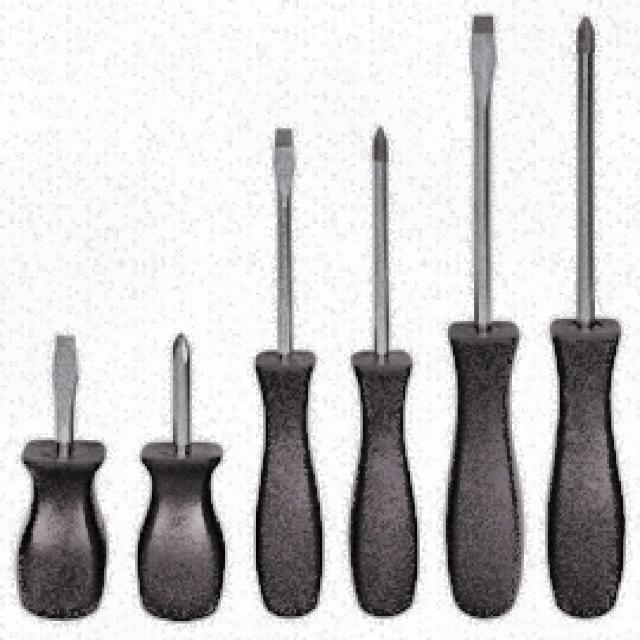screwdriver: (444, 17, 526, 618), (545, 16, 625, 619), (346, 128, 422, 618), (252, 130, 324, 618), (137, 334, 228, 622), (18, 334, 108, 622)
